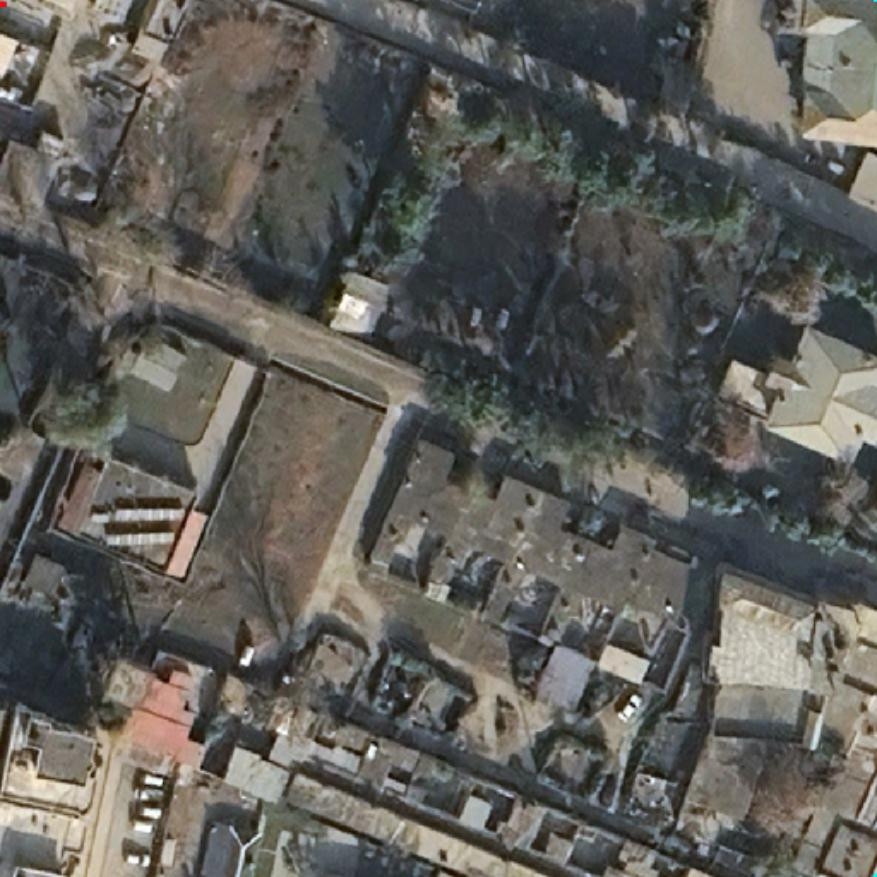Solarpanel: (91, 506, 185, 526), (104, 529, 178, 549)
